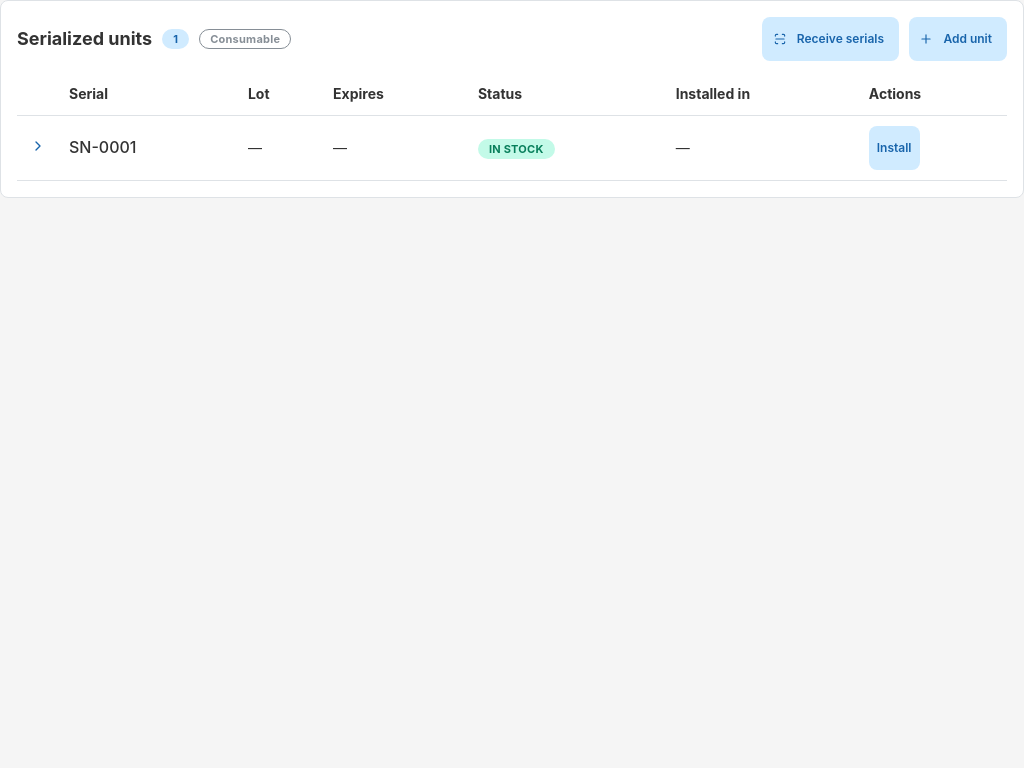
Test: SerializedComponentsPanel › shows an empty-state hint when the item has no compatible assets
Click the button with test id "serialized-action-install-unit-1". click: click(894, 148)
box: [869, 126, 920, 170]
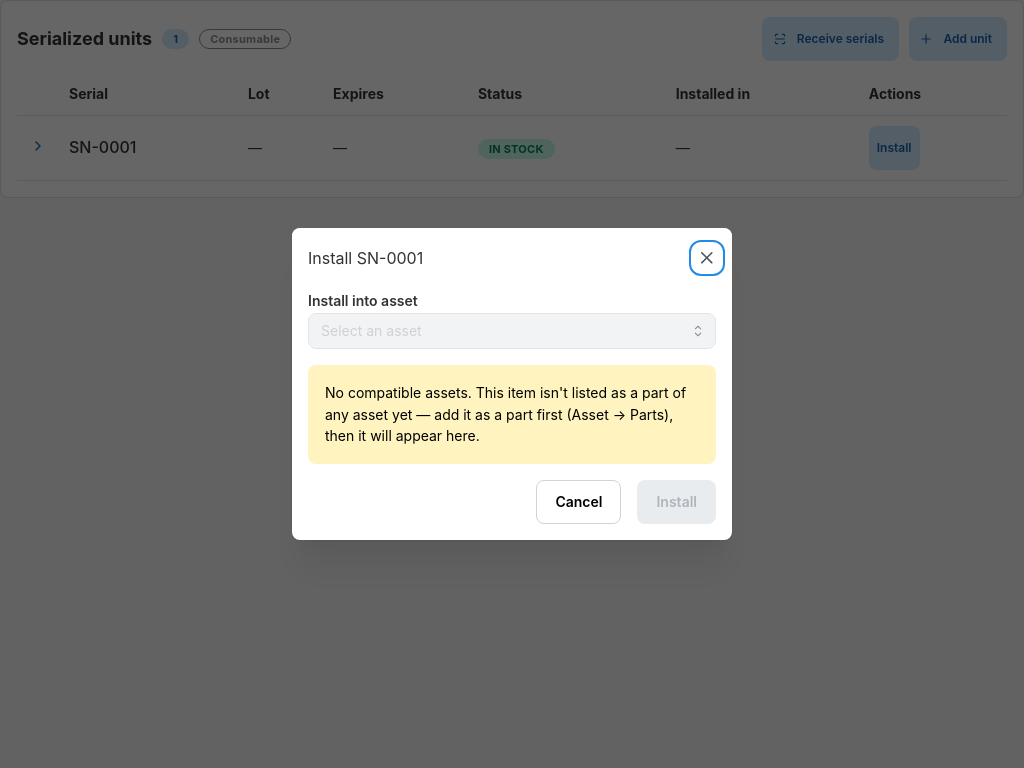
Expected: the message with test id "serialized-install-empty-hint" is shown, [308, 365, 716, 464]
